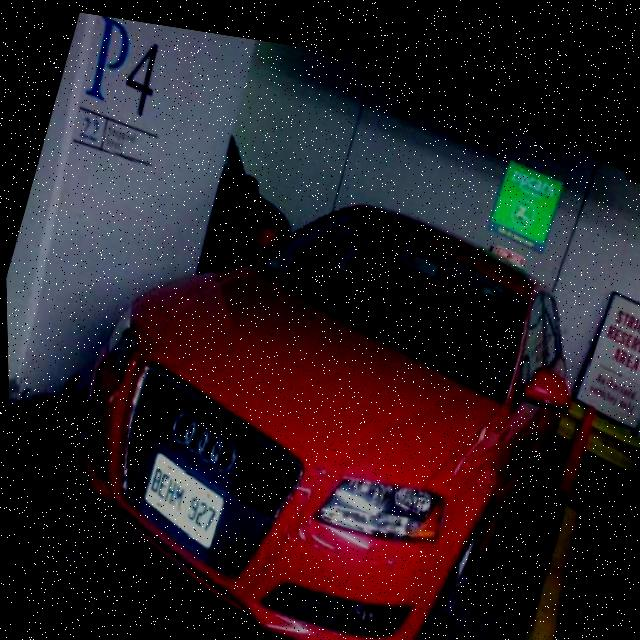license_plate: (136, 445, 228, 546)
